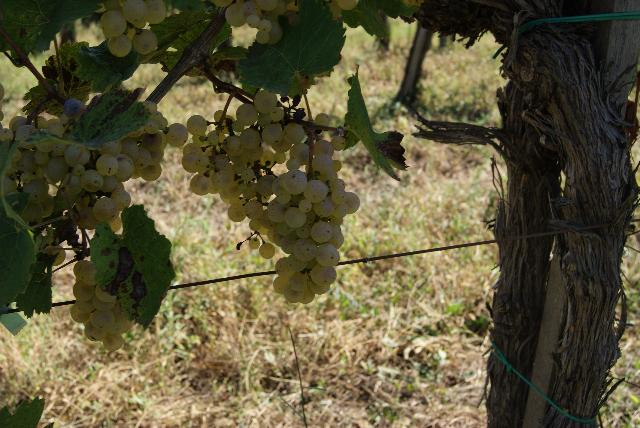grapes: (180, 90, 305, 234), (274, 149, 360, 304)
